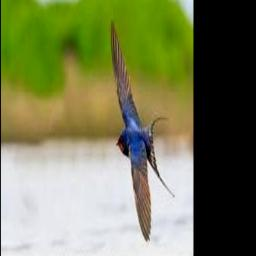Swallow: (111, 16, 175, 241)
